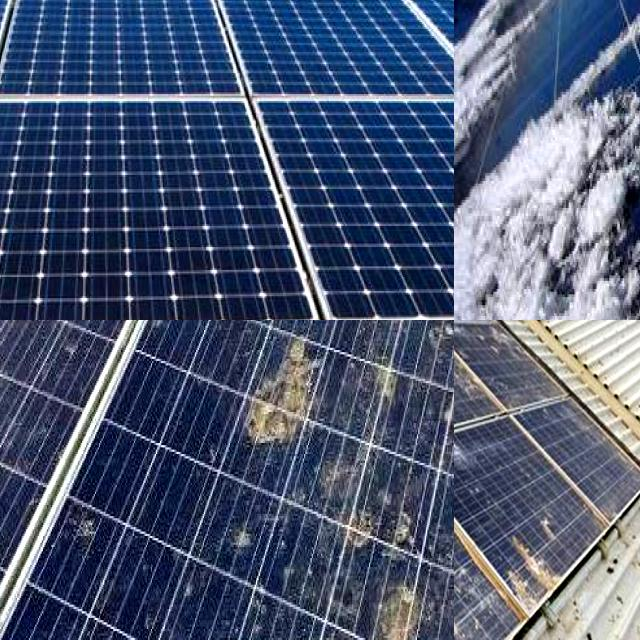bird: (240, 320, 316, 470), (503, 502, 569, 612), (454, 520, 499, 617), (384, 551, 425, 640), (454, 365, 497, 436), (454, 428, 484, 511), (454, 562, 481, 640), (454, 409, 474, 498), (303, 320, 344, 363), (376, 358, 406, 416), (258, 622, 344, 640), (454, 544, 477, 606), (348, 512, 376, 562), (454, 349, 479, 398), (439, 373, 454, 424), (384, 320, 417, 336), (454, 320, 479, 340)
crack: (0, 72, 317, 320), (245, 98, 454, 320), (212, 0, 454, 142), (3, 0, 257, 126)
panel: (547, 84, 640, 211), (454, 35, 517, 140), (604, 225, 640, 320), (476, 0, 528, 33), (550, 0, 611, 24), (514, 0, 582, 21)
